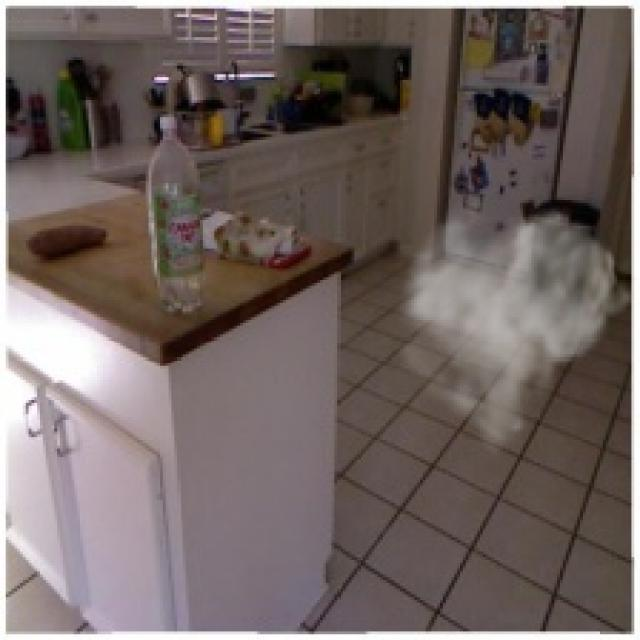Smoke: (392, 183, 637, 463)
